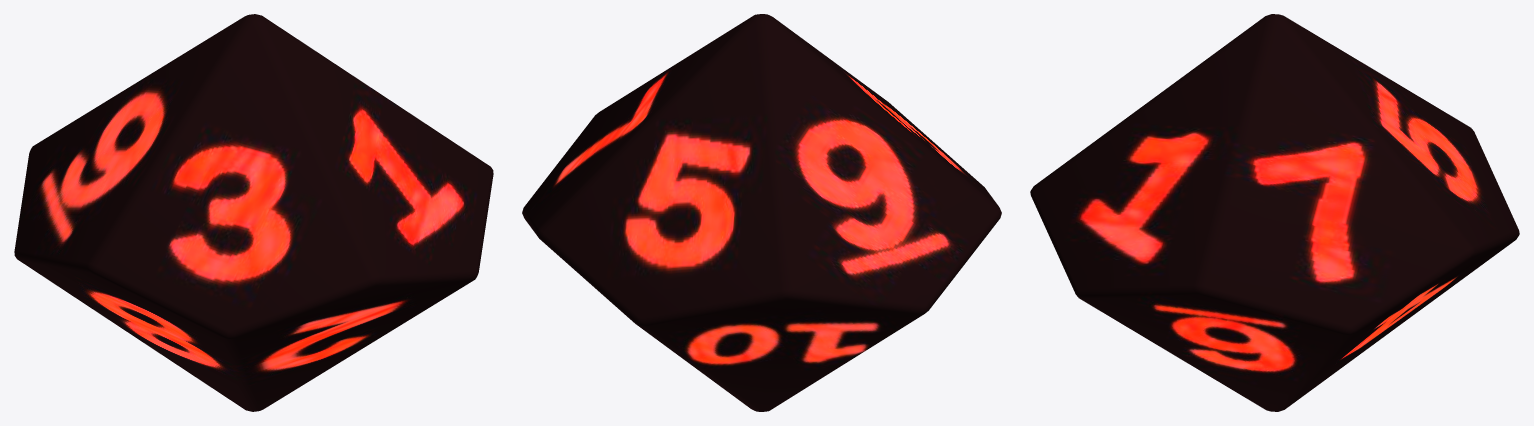
3 renders of one model, left to right at view 1: azimuth 30°, elevation 25°; view 2: azimuth 150°, elevation 25°; view 3: azimuth 270°, elevation 25°, orthographic.
Parts seen in each view (by area): view 1: 10Yellow; view 2: 10Yellow; view 3: 10Yellow.
Part boxes in pixels (x1,y1,x2,y2): 10Yellow: [14, 14, 493, 411]; 10Yellow: [522, 14, 1001, 411]; 10Yellow: [1030, 14, 1519, 411].
Bounding box in the file's own units: 1.51 × 1.41 × 1.58.
1 material, 1 textured.
